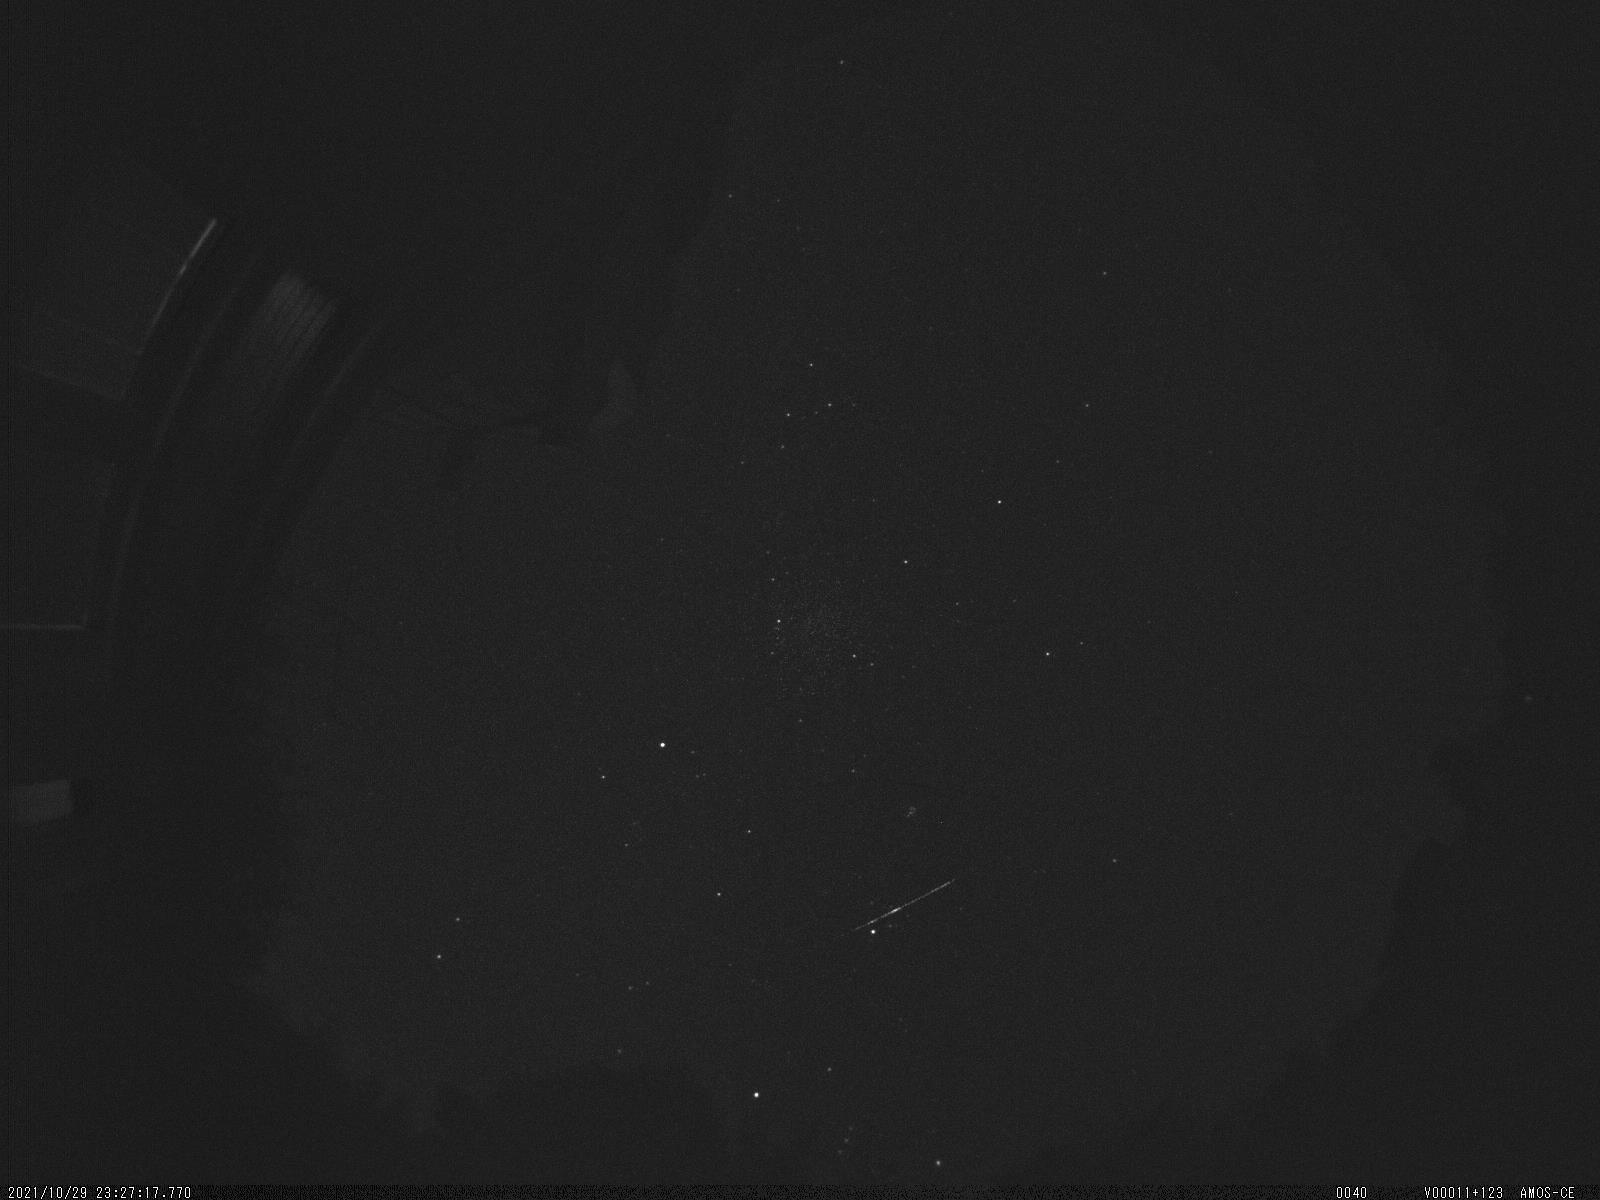Meteor: (841, 864, 970, 942)
